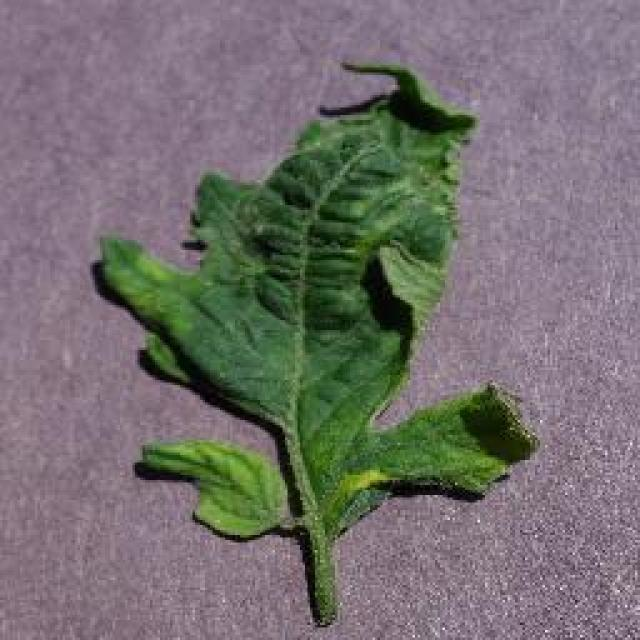Tomato___Tomato_mosaic_virus: (100, 62, 535, 622)
